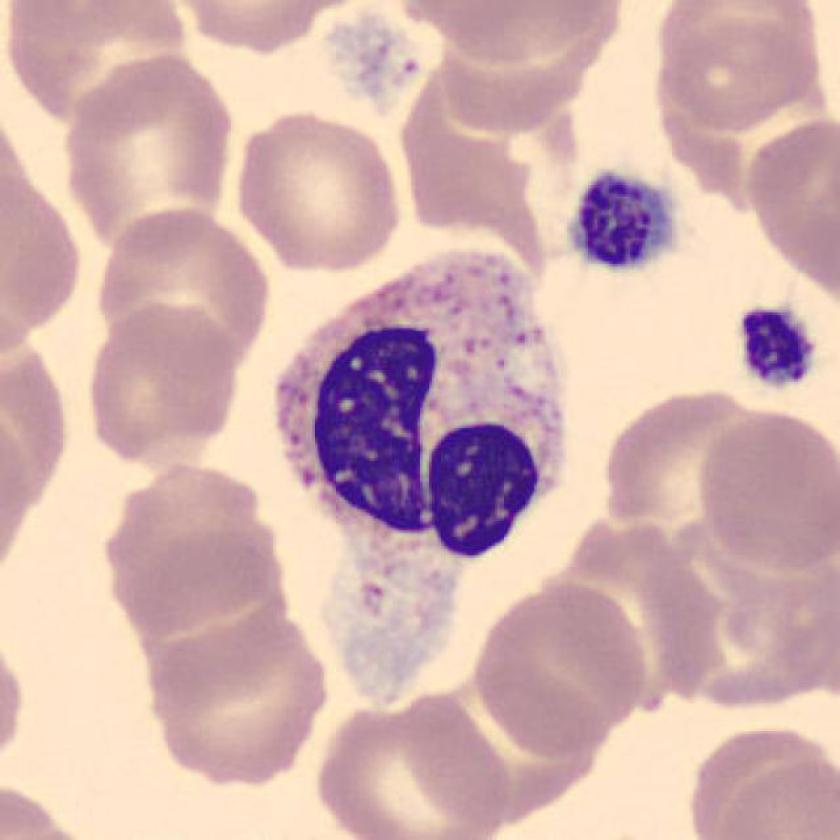neutrophil: (275, 255, 564, 701)
